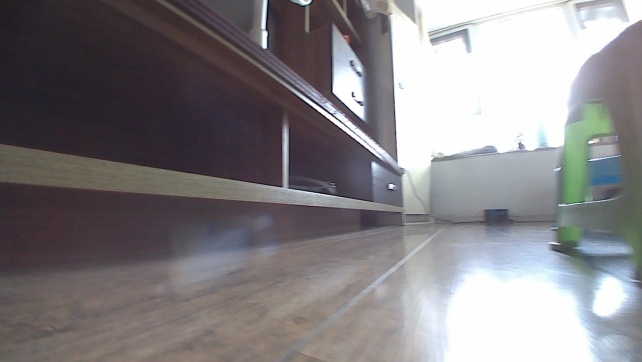TV_stand1: (0, 0, 408, 267)
